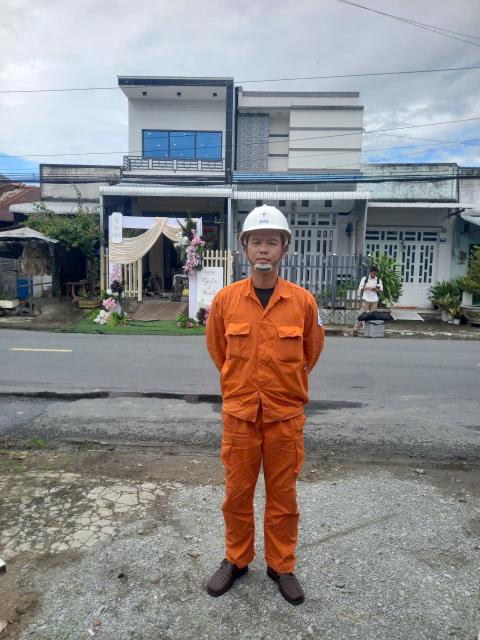helmet: (233, 203, 298, 258)
shoes: (260, 542, 319, 608), (203, 548, 249, 607)
